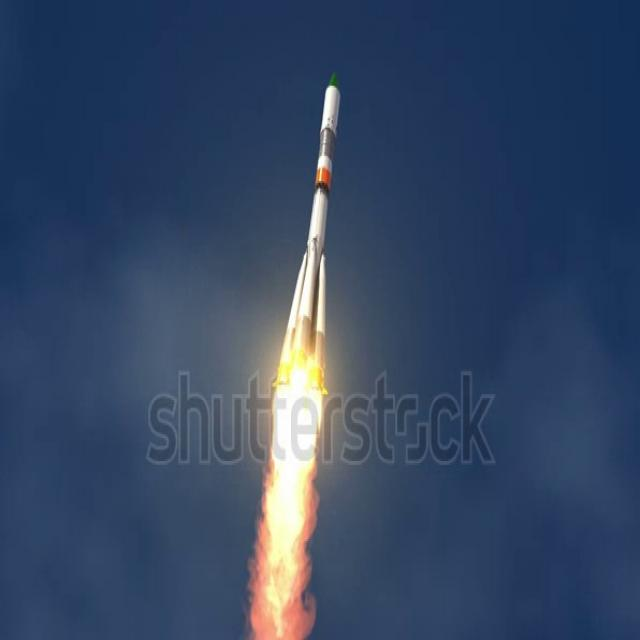rocket: (271, 73, 349, 525)
